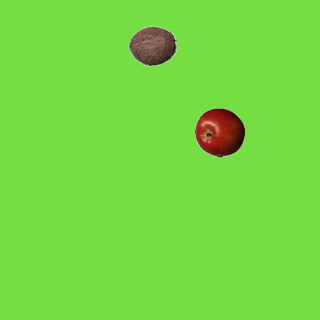Apple Braeburn: (194, 107, 244, 157)
Cocos: (127, 20, 177, 70)
